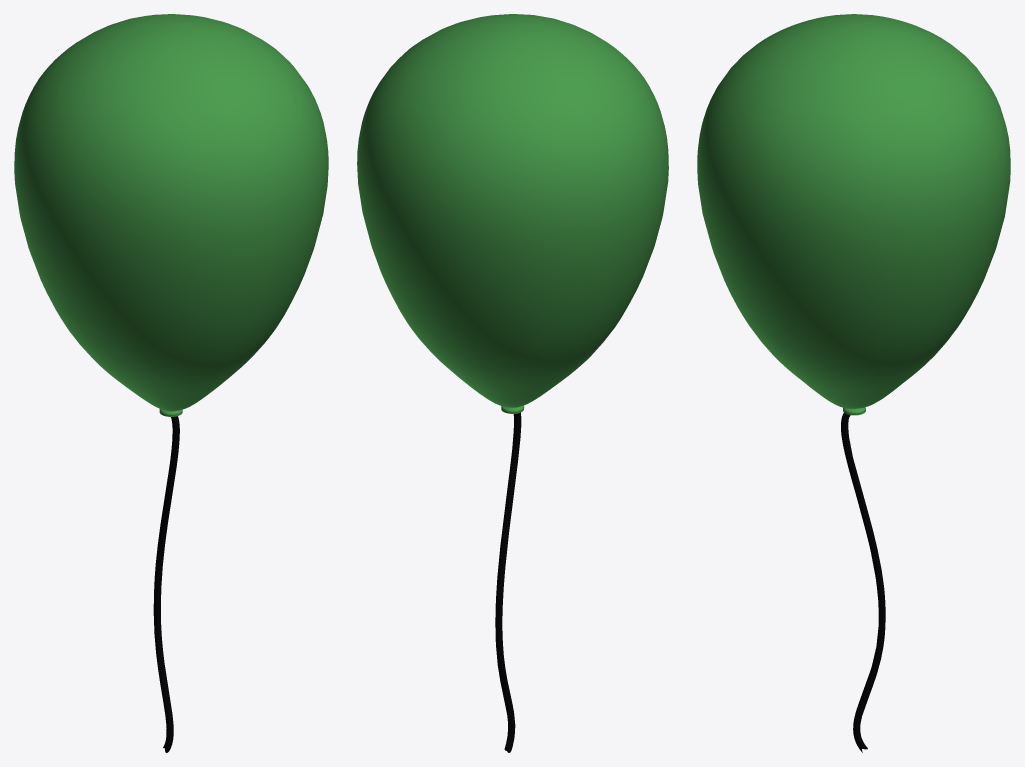
File: Globo v3.fbx
3 views of the same model, side by side, from view 1: azimuth 30°, elevation 25°; view 2: azimuth 150°, elevation 25°; view 3: azimuth 270°, elevation 25° (orthographic).
Parts seen in each view (by area): view 1: Body5, Body6; view 2: Body5, Body6; view 3: Body5, Body6.
Boxes of the visible parts, x1,y1,x2,y2 form: Body5: [14, 14, 328, 416]; Body6: [153, 416, 179, 752]; Body5: [357, 14, 668, 413]; Body6: [495, 412, 521, 752]; Body5: [697, 14, 1010, 415]; Body6: [841, 413, 885, 752].
Bounding box in the file's own units: 8.86 × 22.54 × 8.86.
